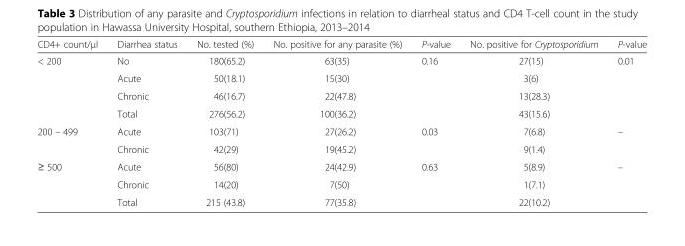table: (36, 36, 646, 207)
table column: (262, 36, 411, 207), (459, 36, 607, 207), (106, 36, 186, 207), (186, 36, 262, 207), (36, 36, 106, 207), (411, 36, 459, 207), (607, 36, 646, 207)
table column header: (36, 36, 646, 52)
table row: (36, 86, 646, 104), (36, 104, 646, 122), (36, 139, 646, 157), (36, 157, 646, 175), (36, 175, 646, 193), (36, 52, 646, 69), (36, 69, 646, 86), (36, 122, 646, 139), (36, 36, 646, 52), (36, 193, 646, 207)
table spanning cell: (36, 52, 106, 122), (36, 157, 106, 207), (36, 122, 106, 157)
